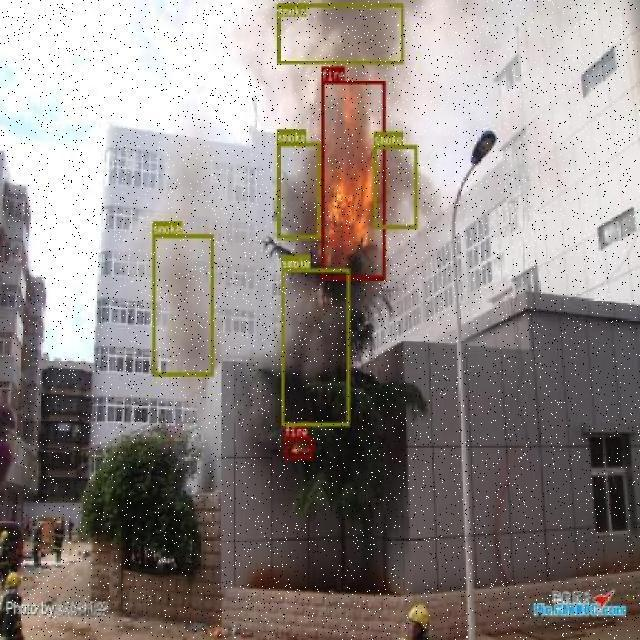Smoke: (270, 3, 396, 63), (281, 299, 348, 394), (88, 269, 148, 340), (276, 78, 319, 174), (373, 84, 416, 160)
